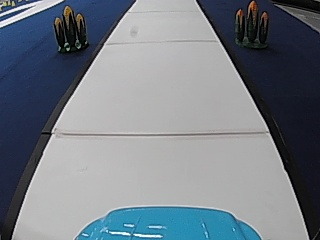corn: (232, 0, 270, 49), (52, 3, 90, 52)
